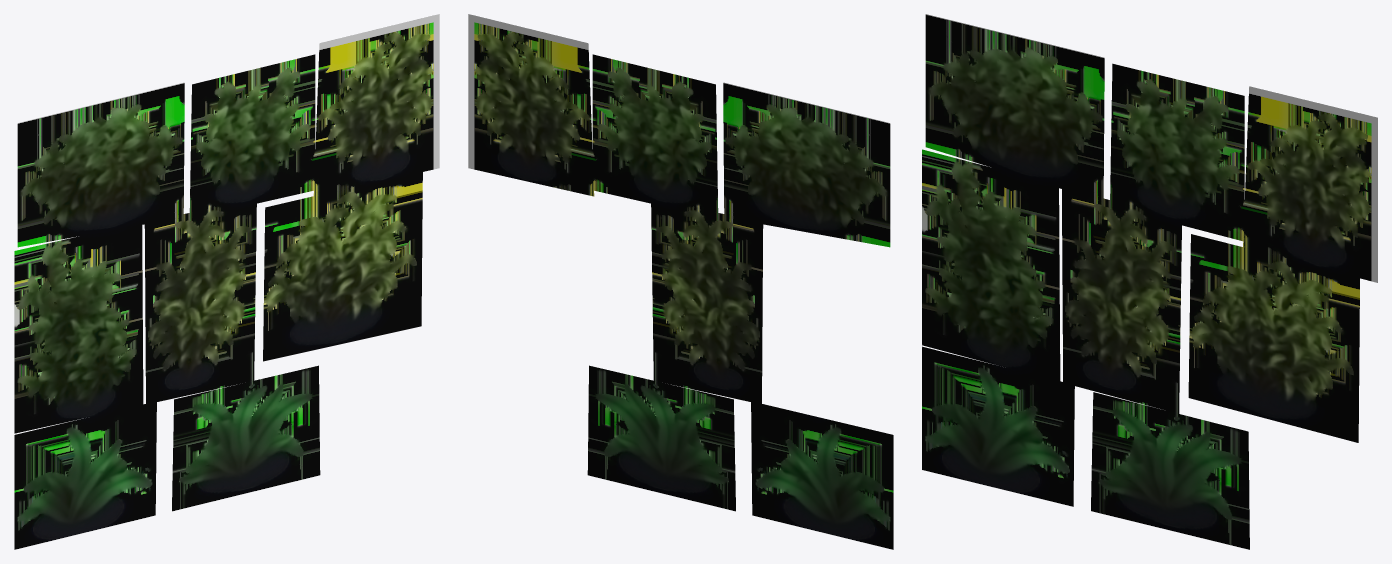
Rendered from Foliage.FBX.
3 views of the same model, side by side, from view 1: azimuth 30°, elevation 25°; view 2: azimuth 150°, elevation 25°; view 3: azimuth 330°, elevation 25° (orthographic). The views are drawn at different scales.
Parts seen in each view (by area): view 1: Plant F, Plant D, Plant A, Plant E, Plant C, Plant B, Plant G, Plant H; view 2: Plant A, Plant E, Plant C, Plant B, Plant G, Plant H; view 3: Plant F, Plant D, Plant A, Plant E, Plant C, Plant B, Plant H, Plant G.
Part boxes in pixels (<box>): Plant F: <box>263,170,422,361</box>; Plant D: <box>14,225,143,433</box>; Plant A: <box>17,82,184,247</box>; Plant E: <box>144,199,256,403</box>; Plant C: <box>313,14,439,196</box>; Plant B: <box>189,54,315,218</box>; Plant G: <box>14,401,156,549</box>; Plant H: <box>172,365,320,511</box>; Plant A: <box>723,82,890,247</box>; Plant E: <box>651,199,763,404</box>; Plant C: <box>468,14,594,196</box>; Plant B: <box>592,54,718,212</box>; Plant G: <box>751,401,893,549</box>; Plant H: <box>587,365,735,511</box>; Plant F: <box>1188,234,1359,442</box>; Plant D: <box>922,149,1060,381</box>; Plant A: <box>925,14,1104,201</box>; Plant E: <box>1062,189,1181,413</box>; Plant C: <box>1243,86,1377,282</box>; Plant B: <box>1110,63,1244,241</box>; Plant H: <box>1091,392,1249,549</box>; Plant G: <box>922,346,1074,506</box>.
Size of the model in its own units: 687 by 0.000109 by 668.
